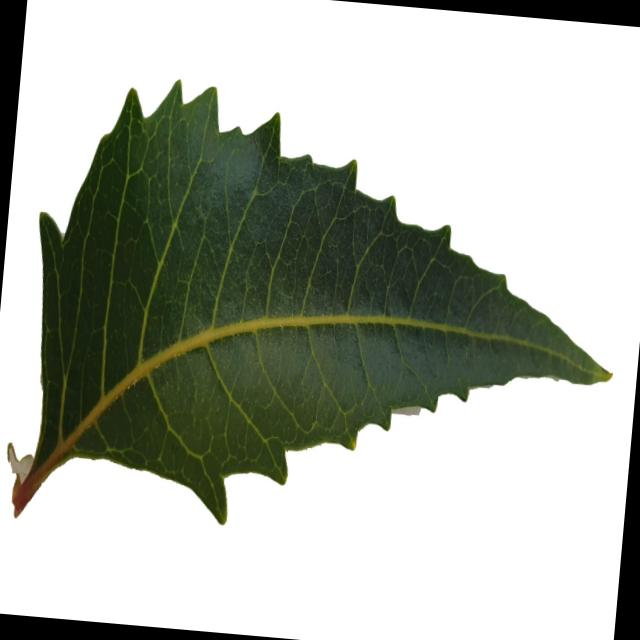Medicinal-Neem: (8, 61, 635, 570)
